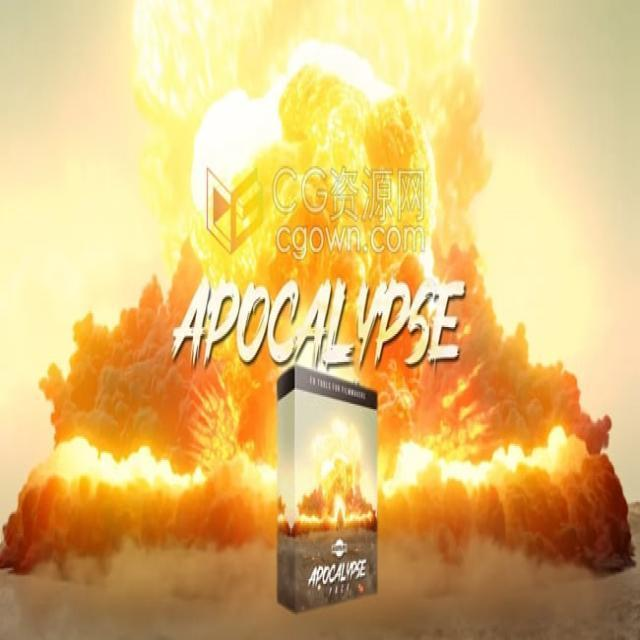fire: (3, 2, 637, 571)
